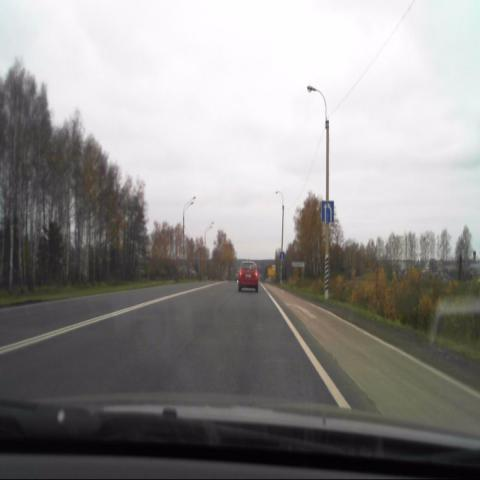4_1_1: (278, 250, 284, 262)
5_15_5: (321, 200, 334, 225)
